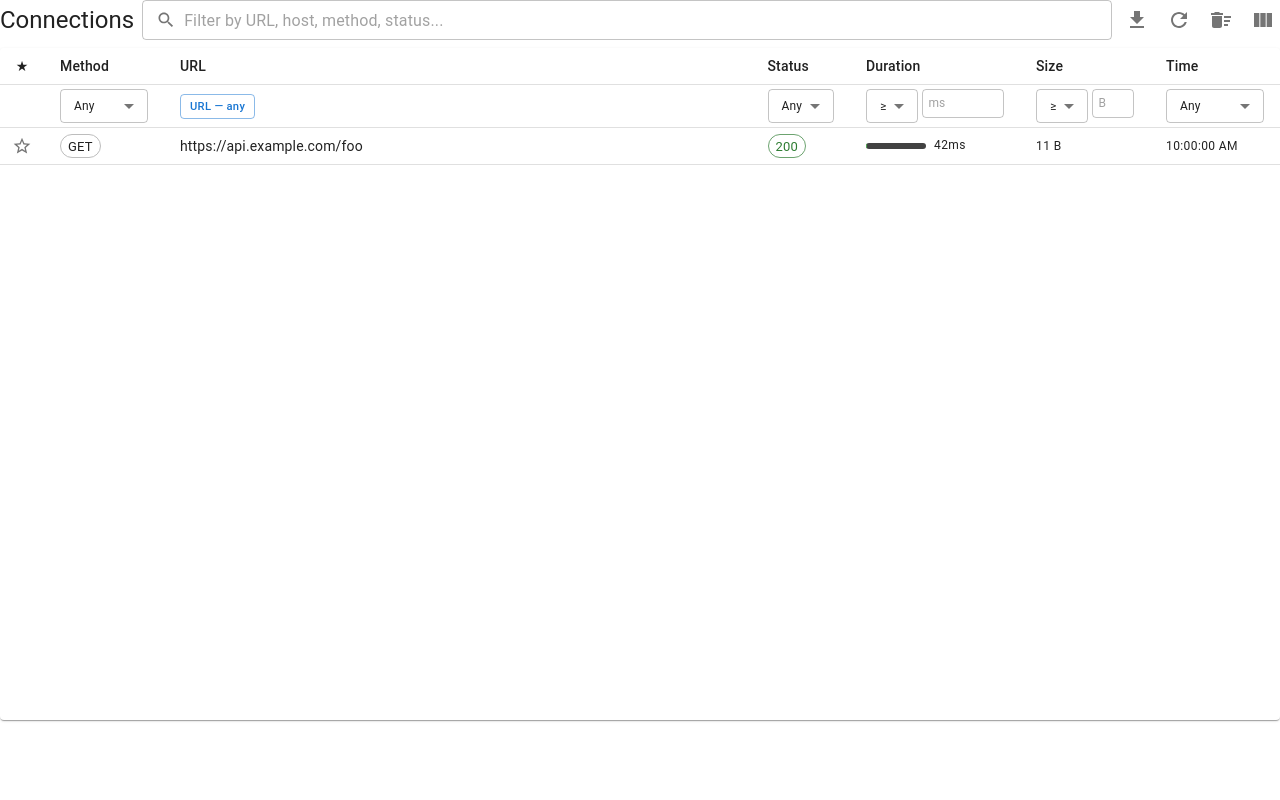
Test case: ConnectionsPage — intercepted badge › shows "Intercepted: no" without highlight for non-intercepted rows
Click the text "https://api.example.com/foo".
click(458, 147)  # box left=164, top=128, right=752, bottom=165
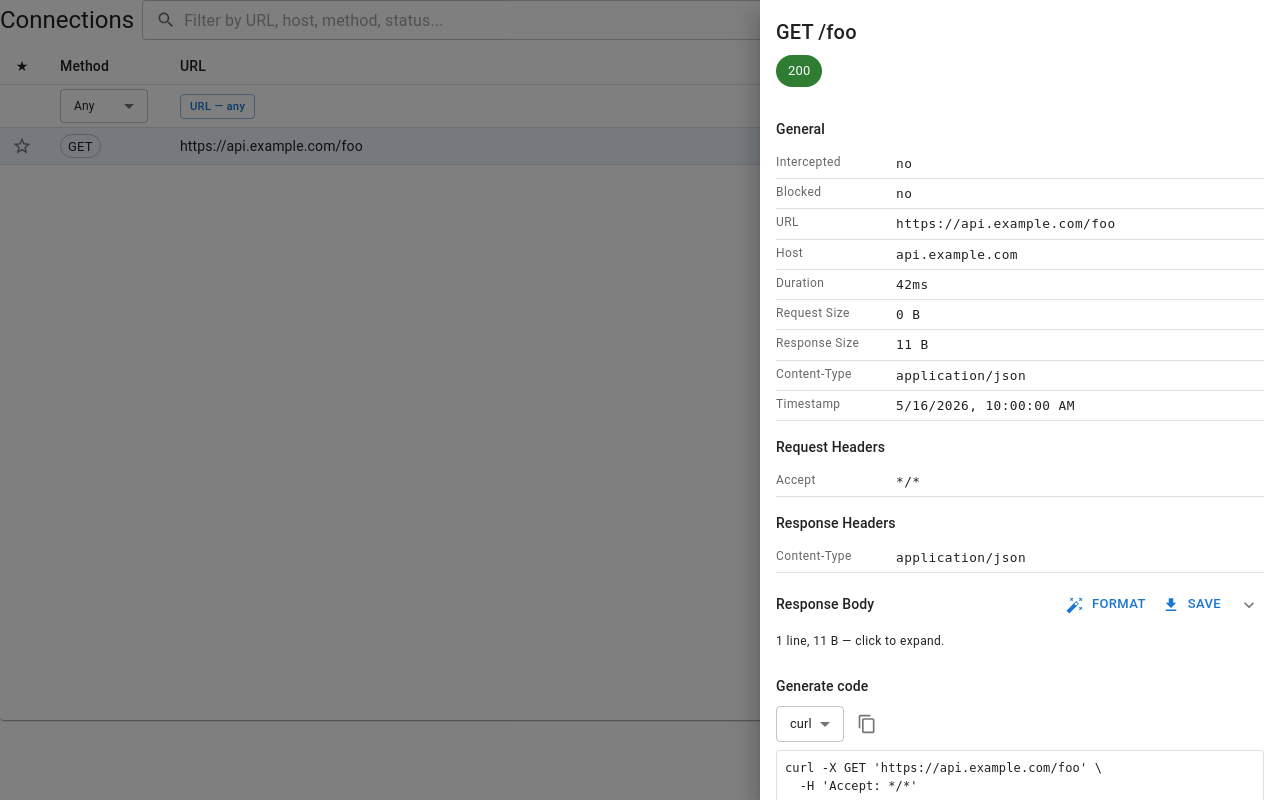
Expected: the text "Intercepted" is shown, left=776, top=155, right=841, bottom=169
Expected: the text "no" is shown 2 times, left=896, top=153, right=912, bottom=174; left=896, top=183, right=912, bottom=204
